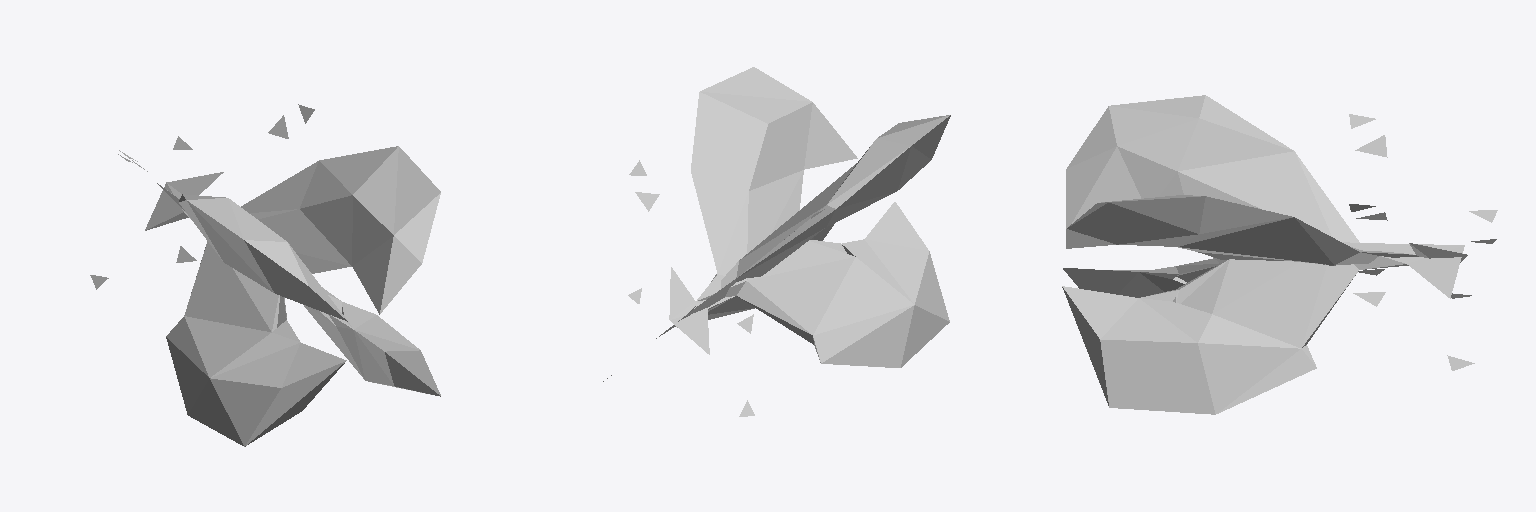
3 renders of one model, left to right at view 1: azimuth 30°, elevation 25°; view 2: azimuth 150°, elevation 25°; view 3: azimuth 270°, elevation 25°, orthographic.
Visible parts, largest first — view 1: ai_model; view 2: ai_model; view 3: ai_model.
Boxes of the visible parts, x1=… form: ai_model: x1=90, y1=104, x2=440, y2=446; ai_model: x1=603, y1=67, x2=950, y2=416; ai_model: x1=1062, y1=95, x2=1497, y2=414.
Bounding box in the file's own units: 0.5526 × 0.5526 × 0.9805.